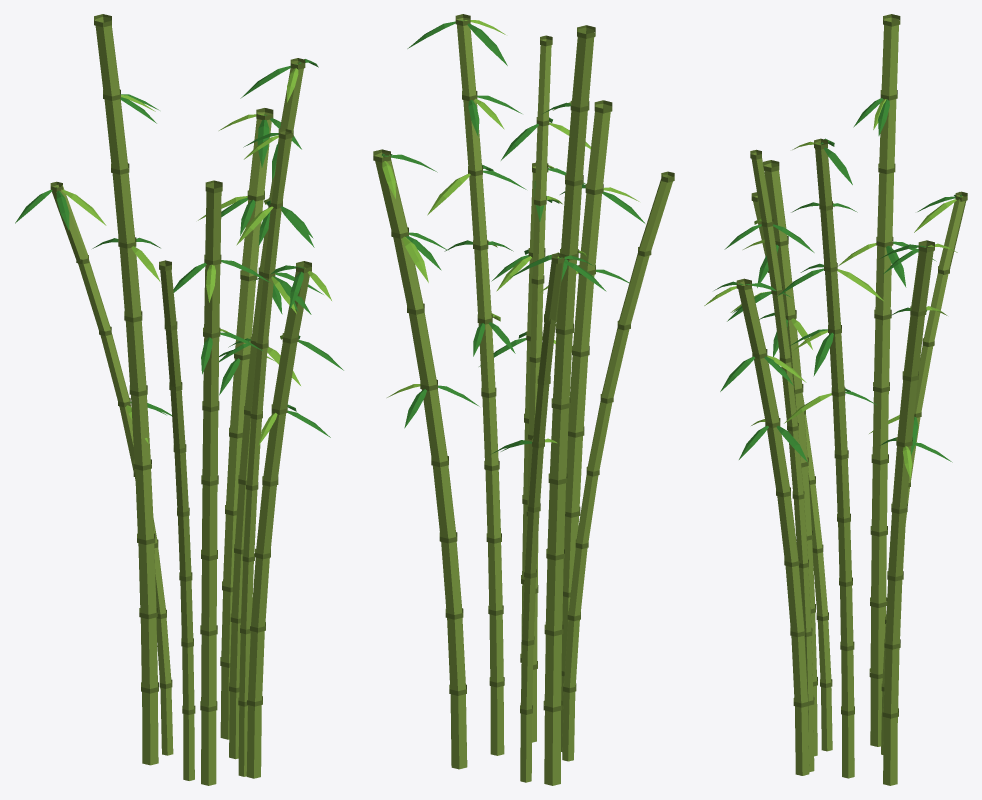
Rendered from bamboo_cluster.glb.
The picture shows the model from 3 angles, left to right: view 1: azimuth 30°, elevation 25°; view 2: azimuth 150°, elevation 25°; view 3: azimuth 270°, elevation 25°; orthographic projection. The views are drawn at different scales.
Parts seen in each view (by area): view 1: bamboo_cluster; view 2: bamboo_cluster; view 3: bamboo_cluster.
Part boxes in pixels (left/top/right/bottom): bamboo_cluster: left=15, top=14, right=343, bottom=785; bamboo_cluster: left=373, top=14, right=674, bottom=785; bamboo_cluster: left=704, top=14, right=967, bottom=785.
Bounding box in the file's own units: 2.27 × 6.5 × 2.2.
